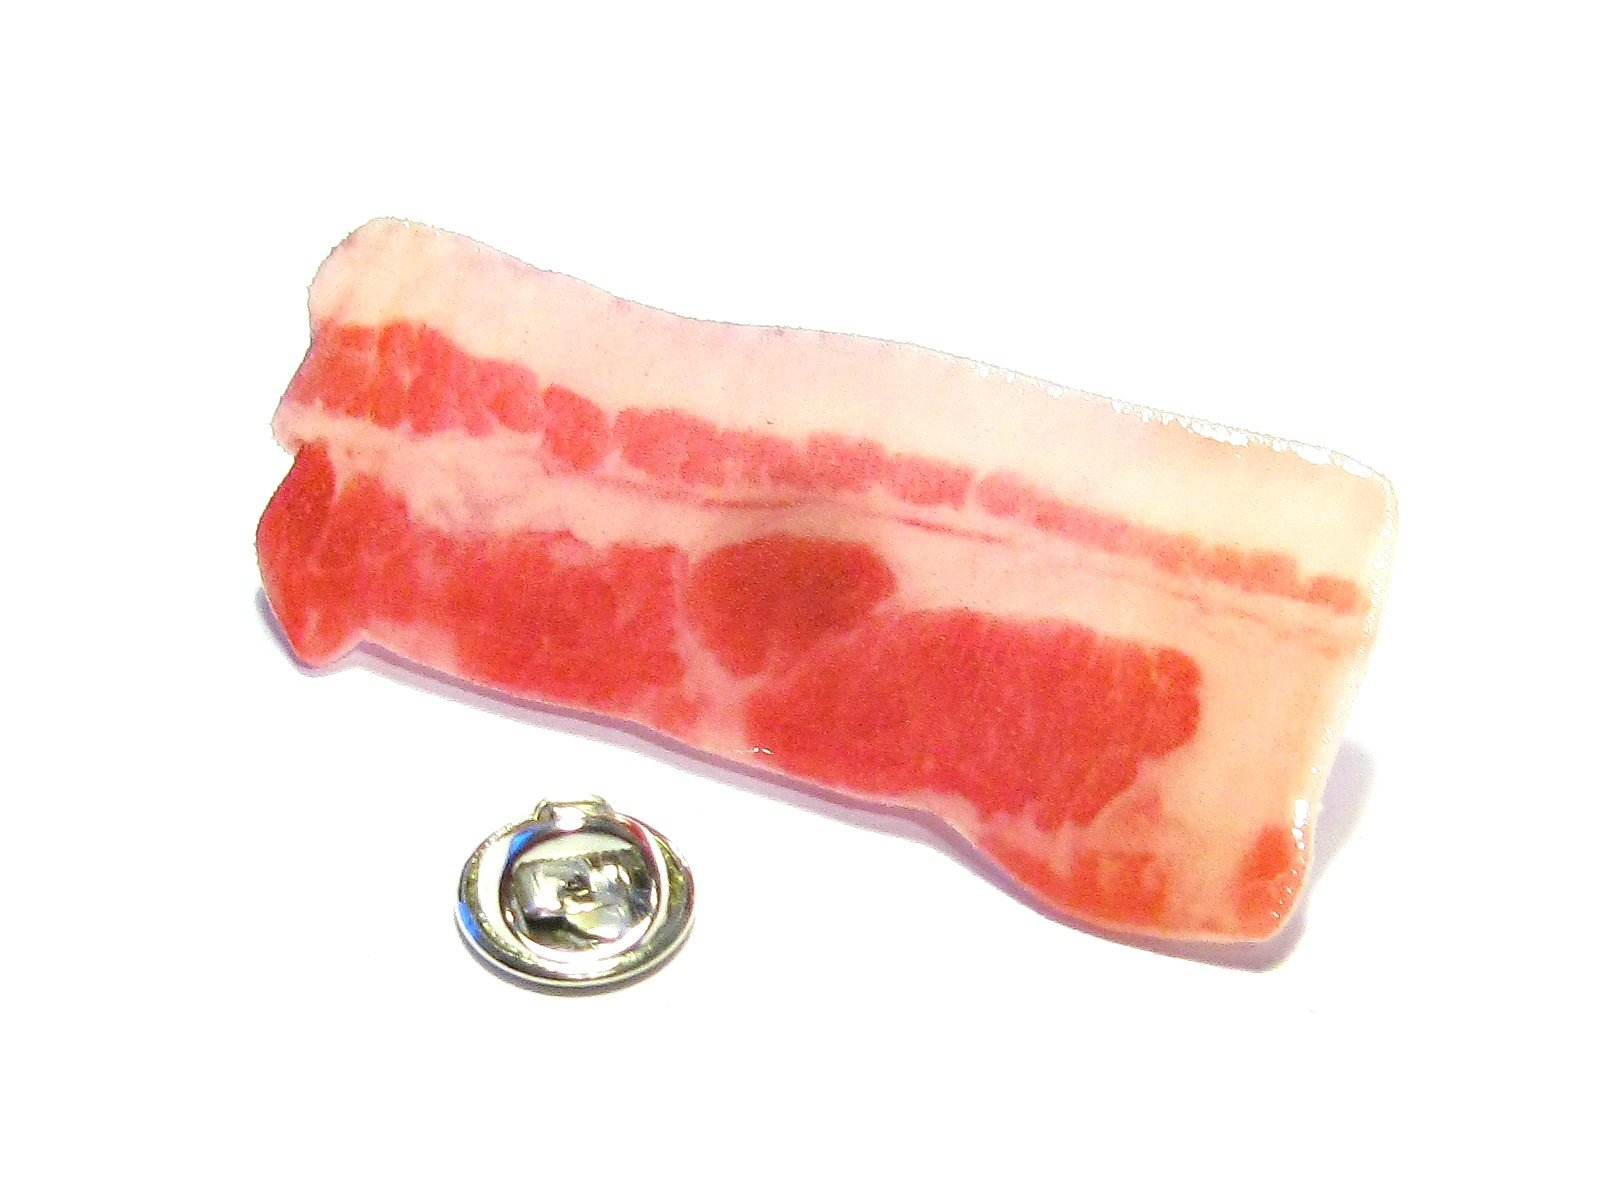bacon: (272, 130, 1450, 971)
